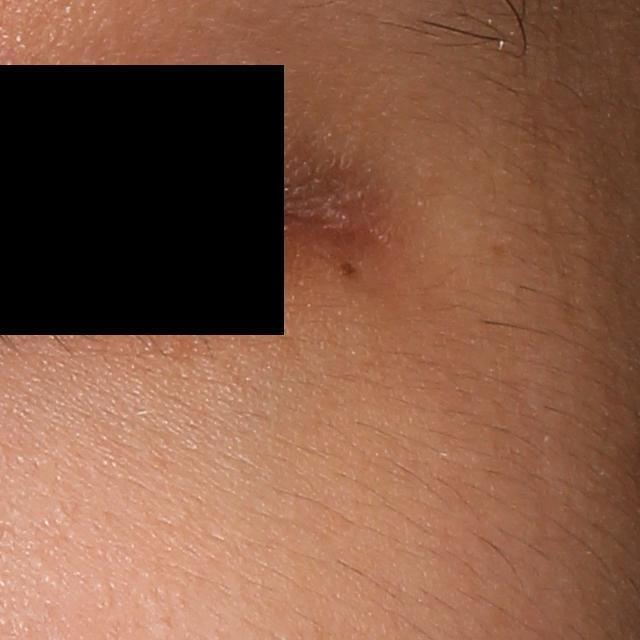nevus: (334, 258, 358, 278)
